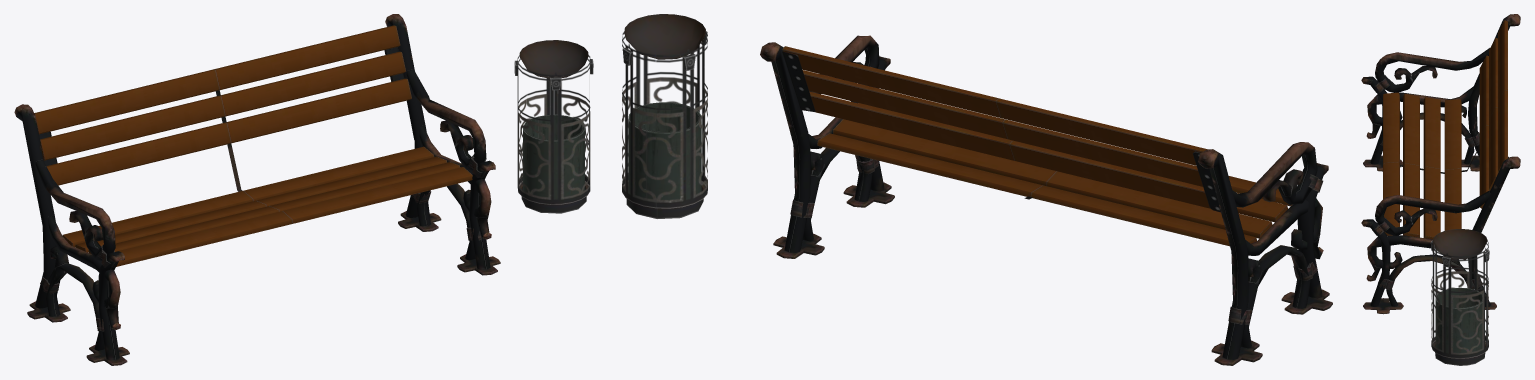
The model's file is parkbench.glb.
The picture shows the model from 3 angles, left to right: view 1: azimuth 30°, elevation 25°; view 2: azimuth 150°, elevation 25°; view 3: azimuth 270°, elevation 25°; orthographic projection. The views are drawn at different scales.
Parts seen in each view (by area): view 1: Object_2, Object_3; view 2: Object_2, Object_3; view 3: Object_2, Object_3.
Boxes of the visible parts, box(x1,y1,x2,y2) form: Object_2: box(14, 14, 500, 365); Object_3: box(514, 40, 593, 213); Object_2: box(760, 35, 1332, 365); Object_3: box(622, 14, 707, 218); Object_2: box(1361, 14, 1520, 314); Object_3: box(1430, 229, 1489, 365).
Bounding box in the file's own units: 2.39 × 0.7928 × 0.766.
Materials: 2 (2 with a texture image).
